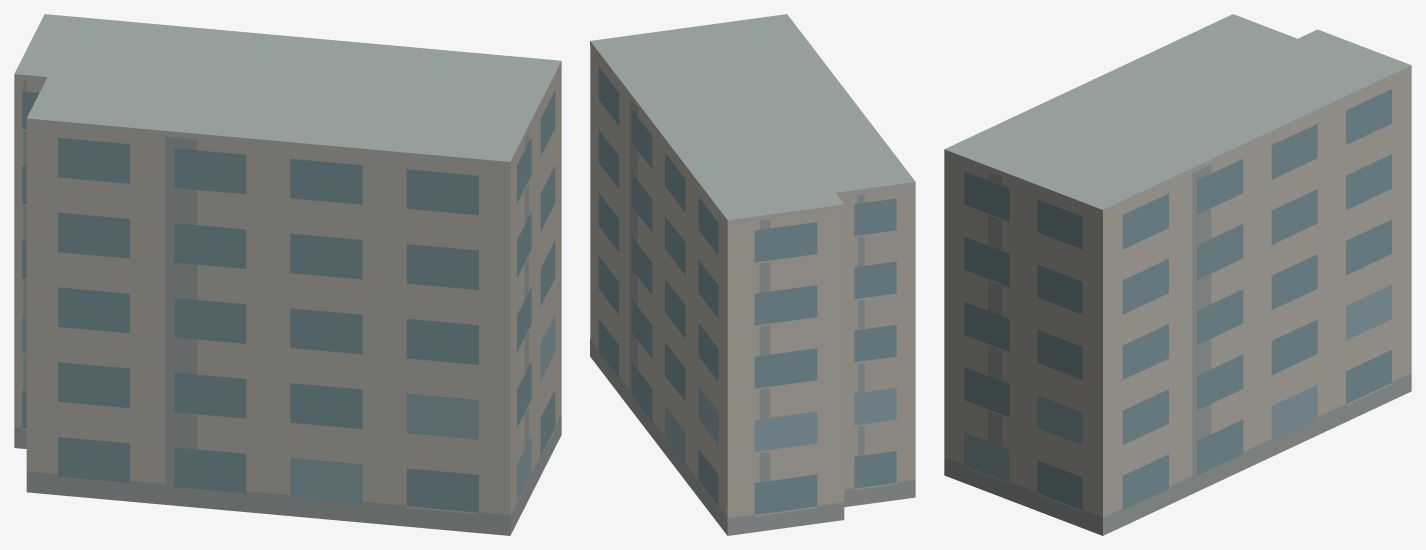
The model's file is residential-37c7fb0c-4cdf-4922-8f75-87934a42e5b3.glb.
3 views of the same model, side by side, from view 1: azimuth 30°, elevation 25°; view 2: azimuth 150°, elevation 25°; view 3: azimuth 270°, elevation 25° (orthographic). The views are drawn at different scales.
Parts seen in each view (by area): view 1: residential-37c7fb0c-4cdf-4922-8f75-87934a42e5b3.tmp; view 2: residential-37c7fb0c-4cdf-4922-8f75-87934a42e5b3.tmp; view 3: residential-37c7fb0c-4cdf-4922-8f75-87934a42e5b3.tmp.
Boxes of the visible parts, box(x1,y1,x2,y2) form: residential-37c7fb0c-4cdf-4922-8f75-87934a42e5b3.tmp: box(14, 14, 561, 535); residential-37c7fb0c-4cdf-4922-8f75-87934a42e5b3.tmp: box(590, 14, 915, 535); residential-37c7fb0c-4cdf-4922-8f75-87934a42e5b3.tmp: box(944, 14, 1411, 535).
Bounding box in the file's own units: 19.66 × 15.25 × 19.82.
